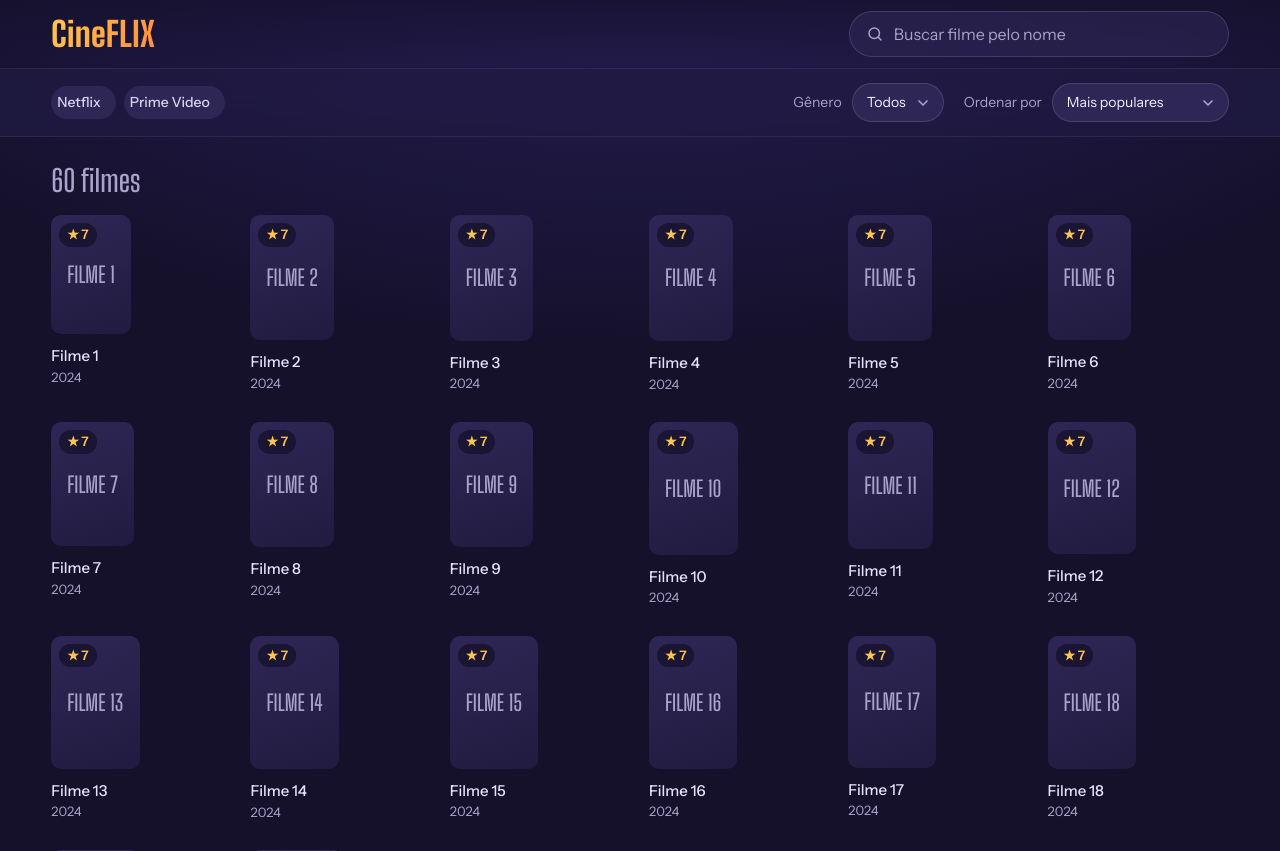
Test case: busca › busca sem resultado avisa com o texto buscado
This screenshot has width=1280, height=851.
Expected: the text "60 filmes" is shown, [51,162,140,198]
Type "xyzxyz" into the search field labelled "Buscar filme". click: {"x": 1053, "y": 34}
box: [894,12,1212,56]
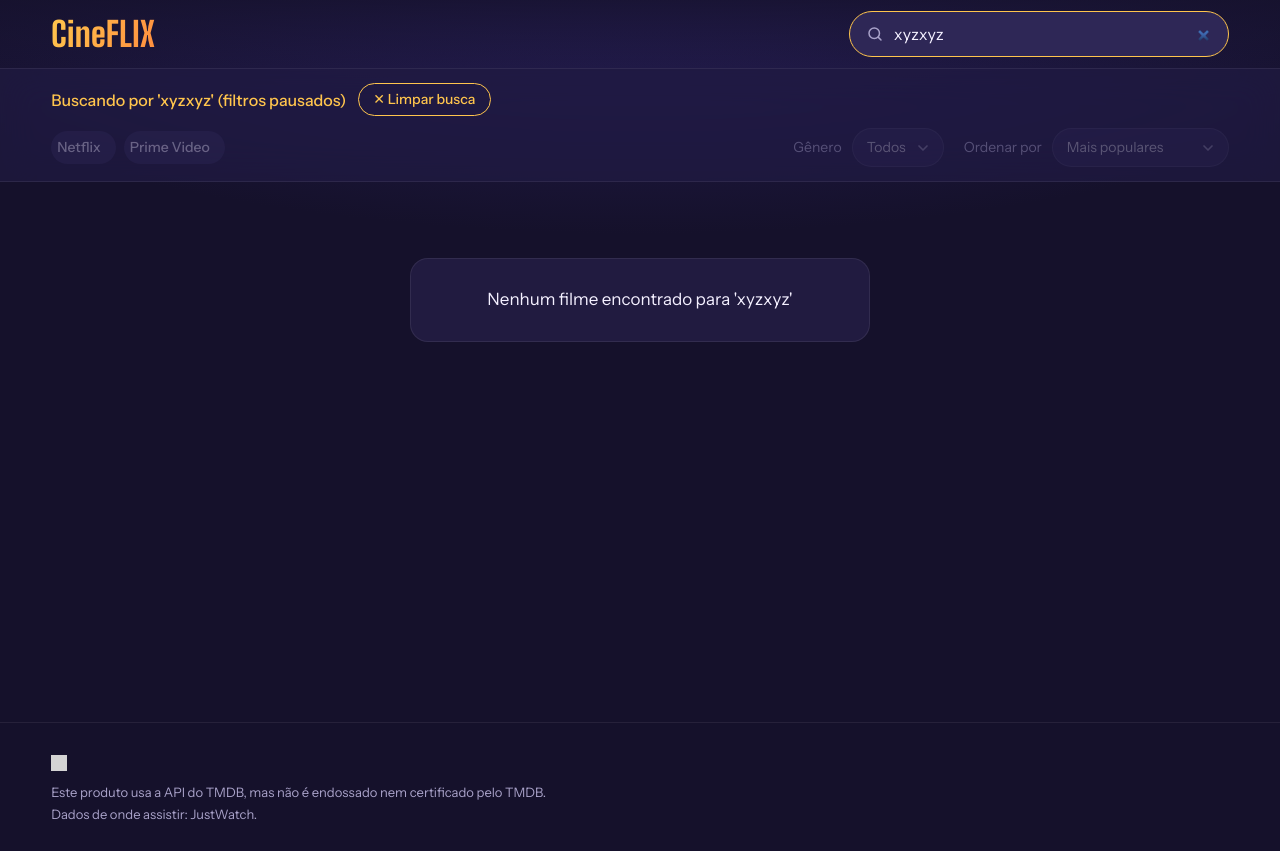
Now the text "Nenhum filme encontrado para 'xyzxyz'" is shown, box [487,289,793,309]
